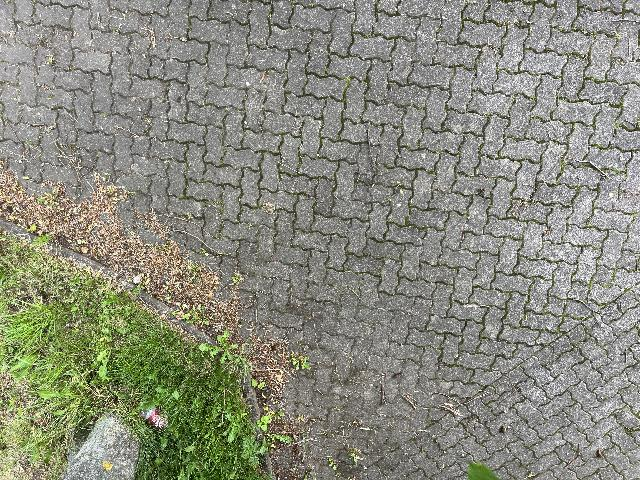plastic_bottle: (135, 402, 176, 435)
